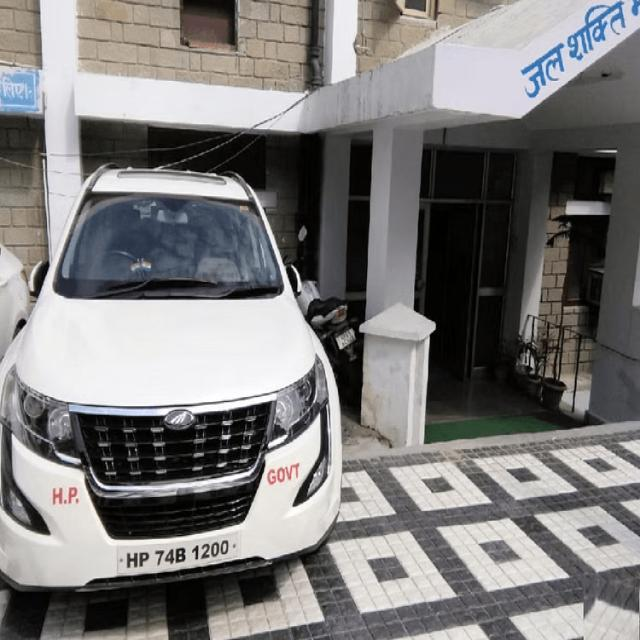plate: (116, 530, 241, 579), (334, 326, 359, 352)
